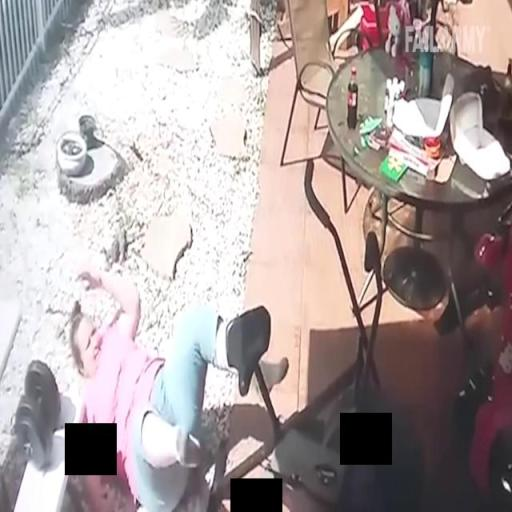Fall: (65, 265, 290, 512)
